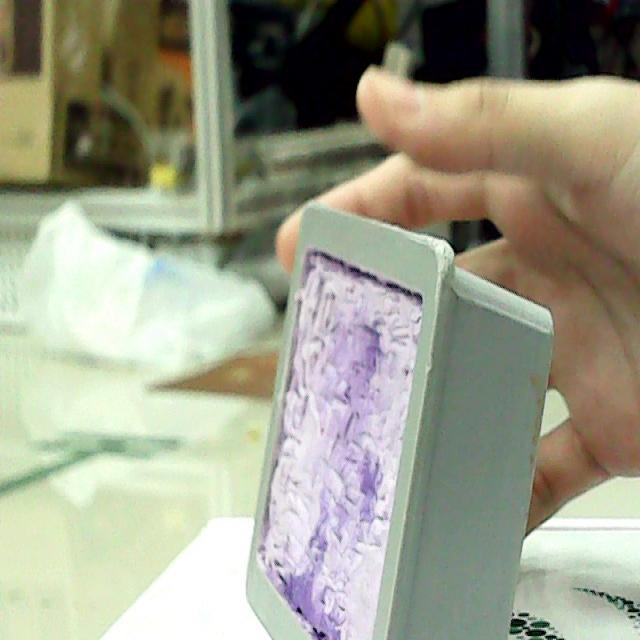block: (243, 206, 557, 640)
